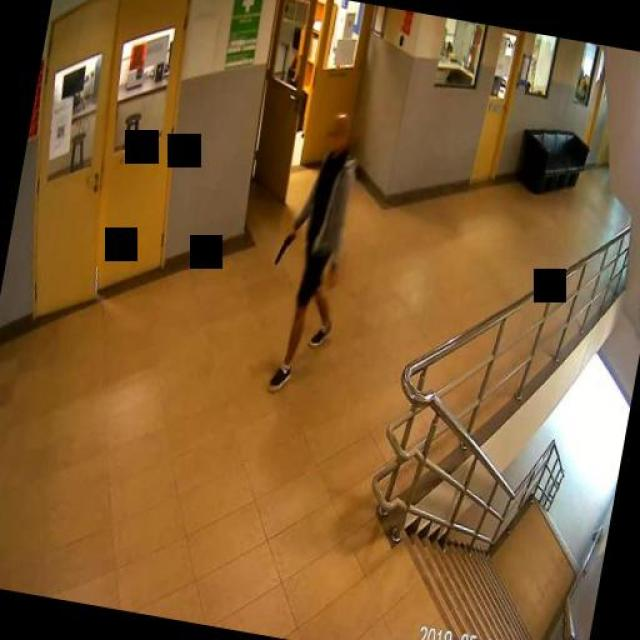gun: (272, 228, 294, 266)
